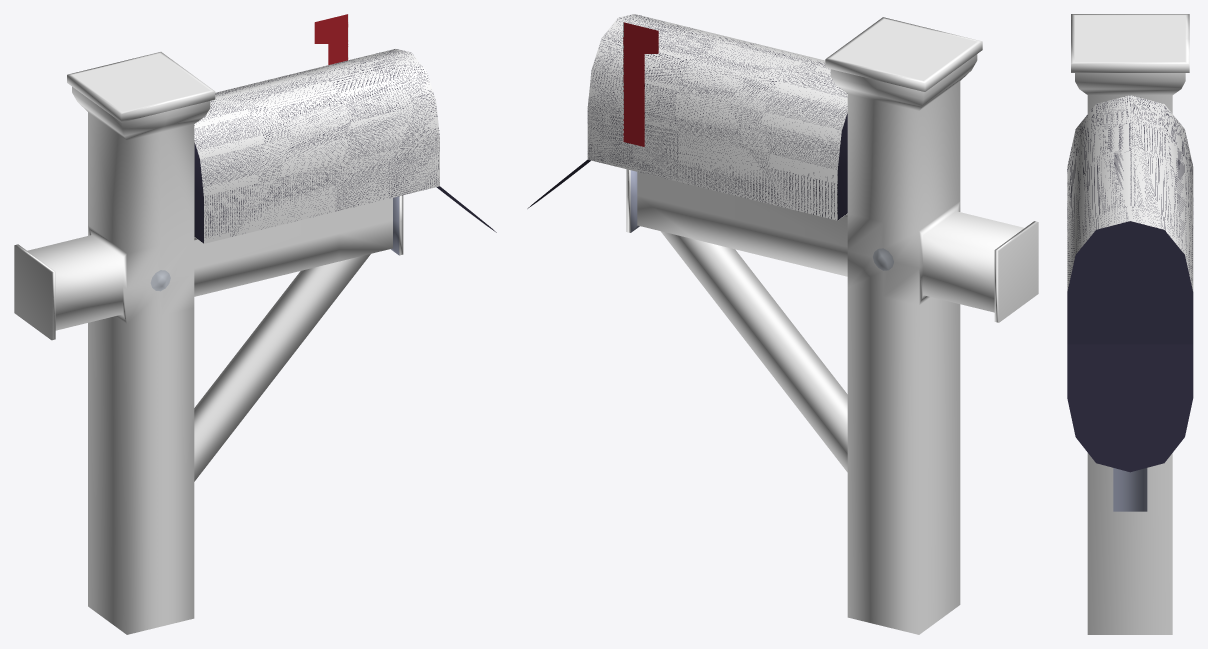
Rendered from mailbox.glb.
3 renders of one model, left to right at view 1: azimuth 30°, elevation 25°; view 2: azimuth 150°, elevation 25°; view 3: azimuth 270°, elevation 25°, orthographic. The views are drawn at different scales.
Visible parts, largest first — view 1: Cube; view 2: Cube; view 3: Cube.
Part boxes in pixels (<box>): Cube: <box>14,14,496,634</box>; Cube: <box>527,14,1038,634</box>; Cube: <box>1067,14,1193,634</box>.
Bounding box in the file's own units: 1.35 × 1.5 × 0.297.
Materials: 1 (1 with a texture image).
